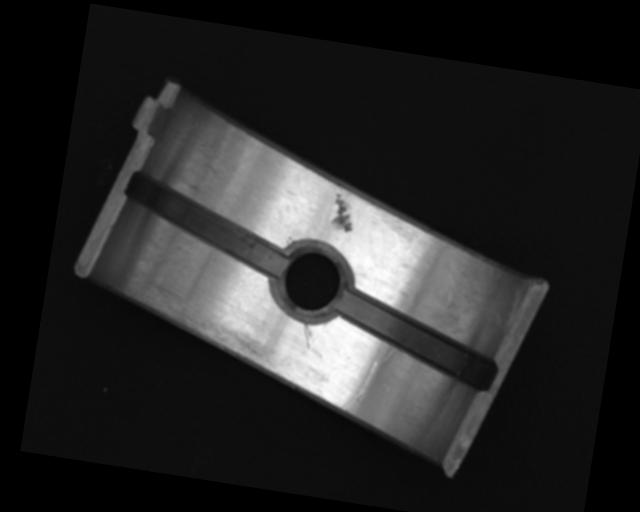bruise: (328, 192, 358, 234)
gap: (118, 171, 293, 277), (328, 290, 503, 392)
hole: (268, 240, 356, 329)
nick: (341, 354, 380, 416), (299, 321, 315, 349)
scratch: (129, 290, 279, 369)
